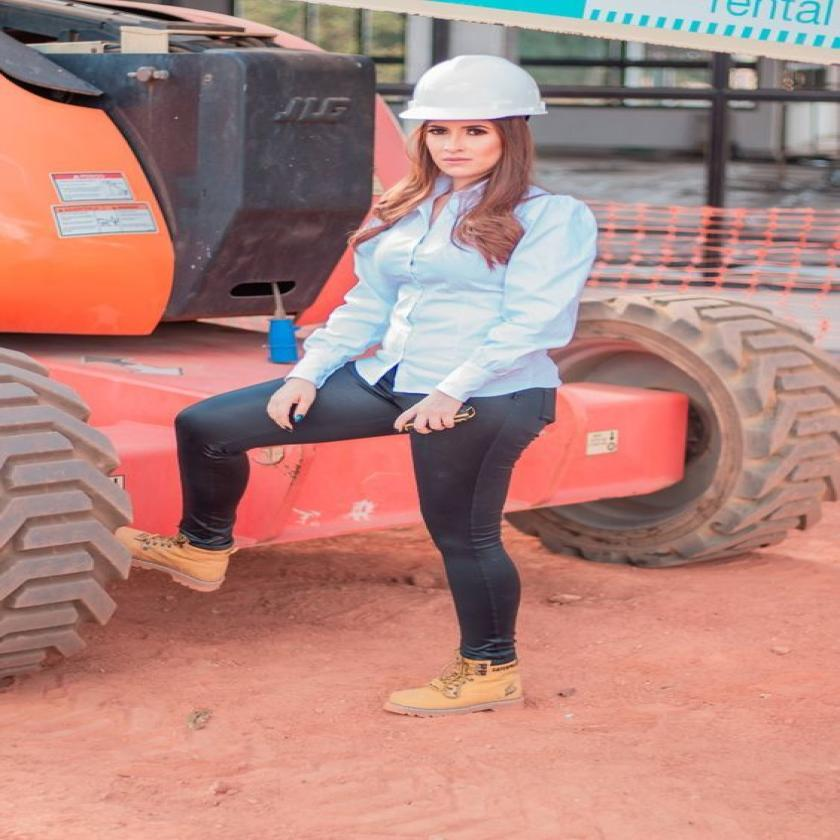Con_casco: (400, 55, 557, 191)
